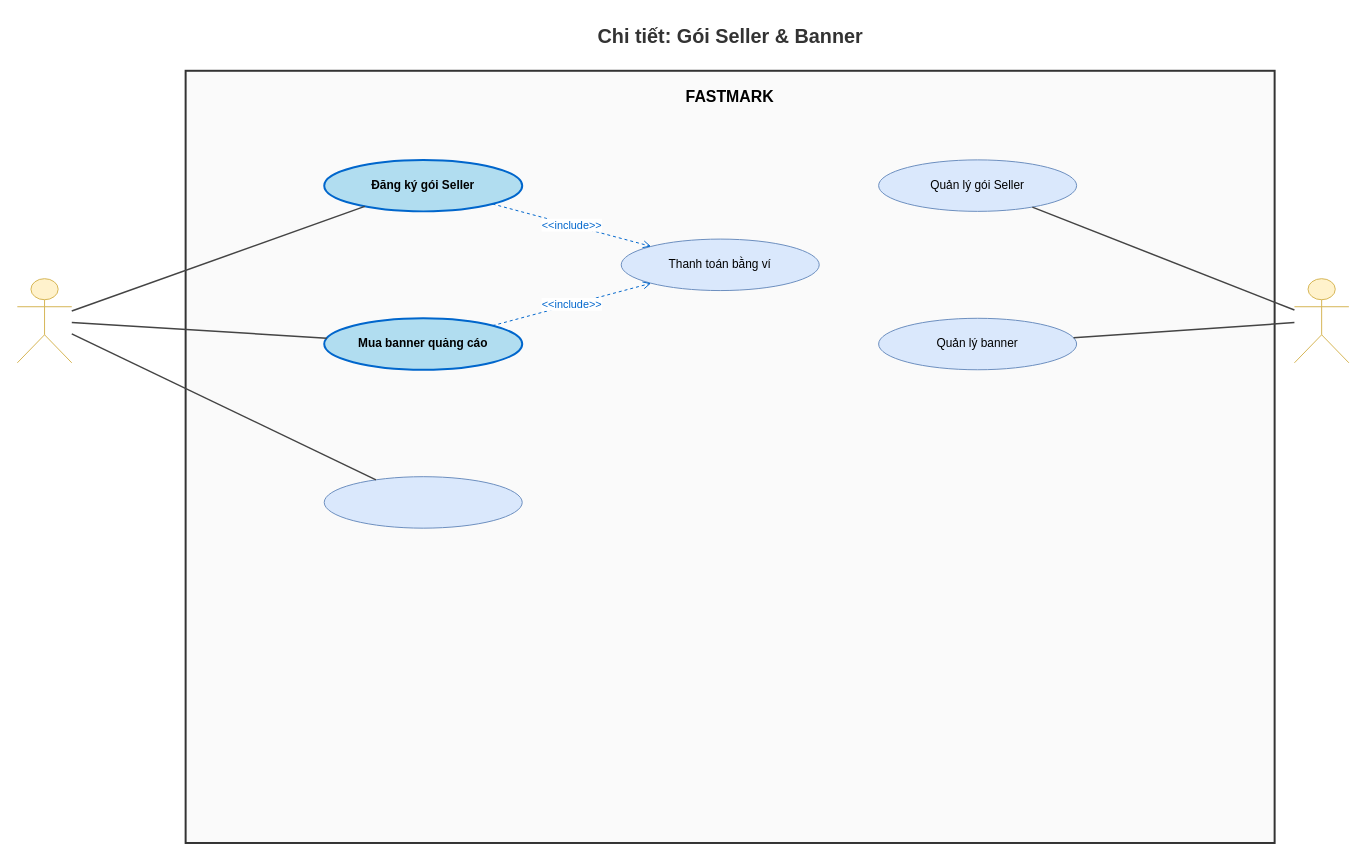
Some shapes in this 1366 by 860 pixel diagram are drawn without their labels. The shapes that lost their labels are listed below. From the top down, each one's centre as x and y in pixels, then its label:
At pixel 44 320: "Seller".
At pixel 1321 320: "Admin".
At pixel 422 502: "Xem banner đang hiển thị".
